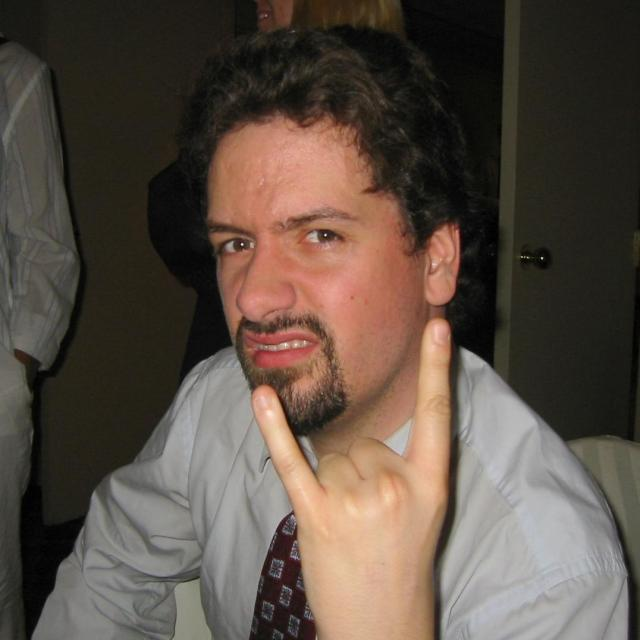no-glass: (212, 228, 335, 255)
